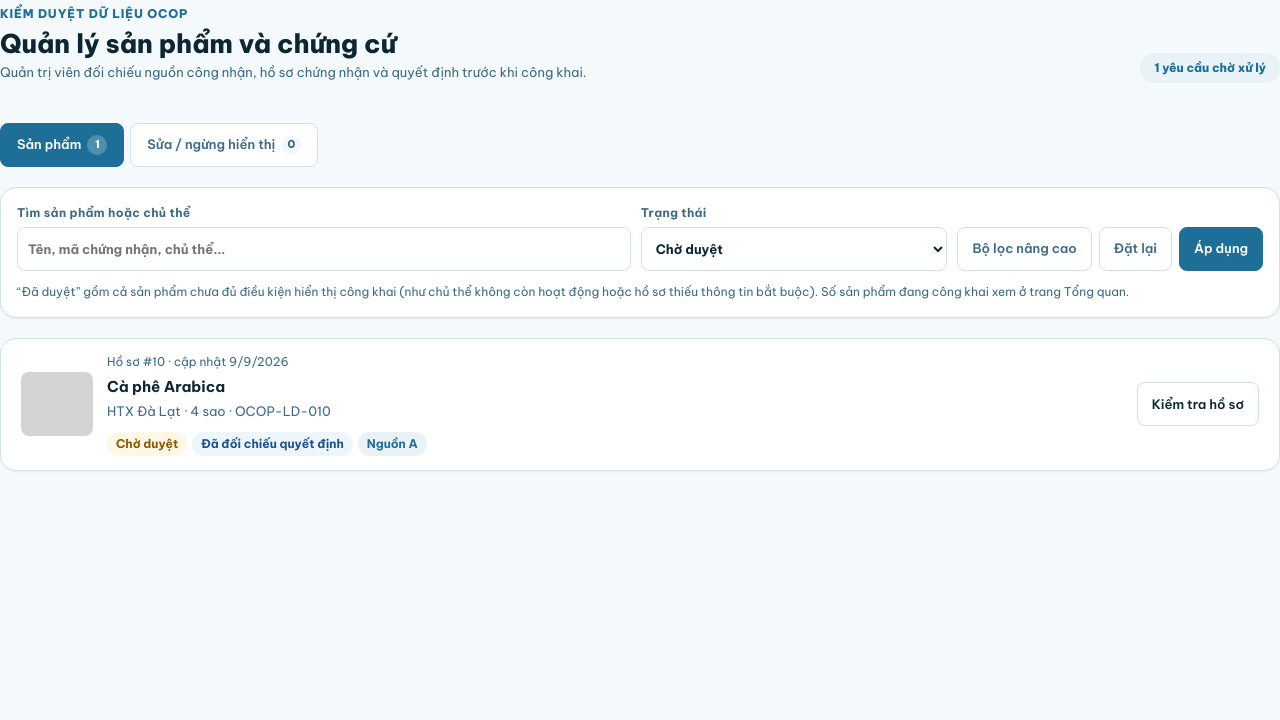
it: AdminProductsView › thieu phan hoi khi yeu cau bo sung: bao loi trong hop thoai, khong goi API
The width and height of the screenshot is (1280, 720).
Click the button "Kiểm tra hồ sơ".
click(1198, 404)  # box [1137,382,1259,426]
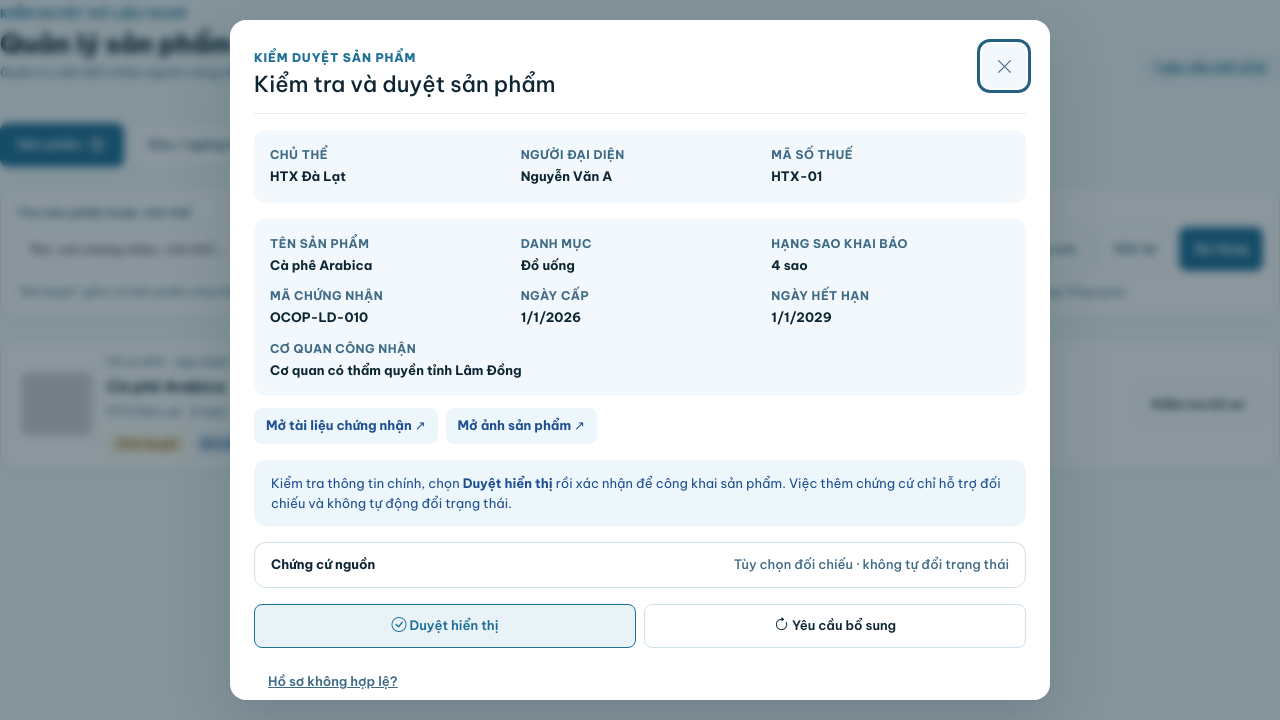
Click the button "Yêu cầu bổ sung".
click(835, 626)  # box [644,604,1026,648]
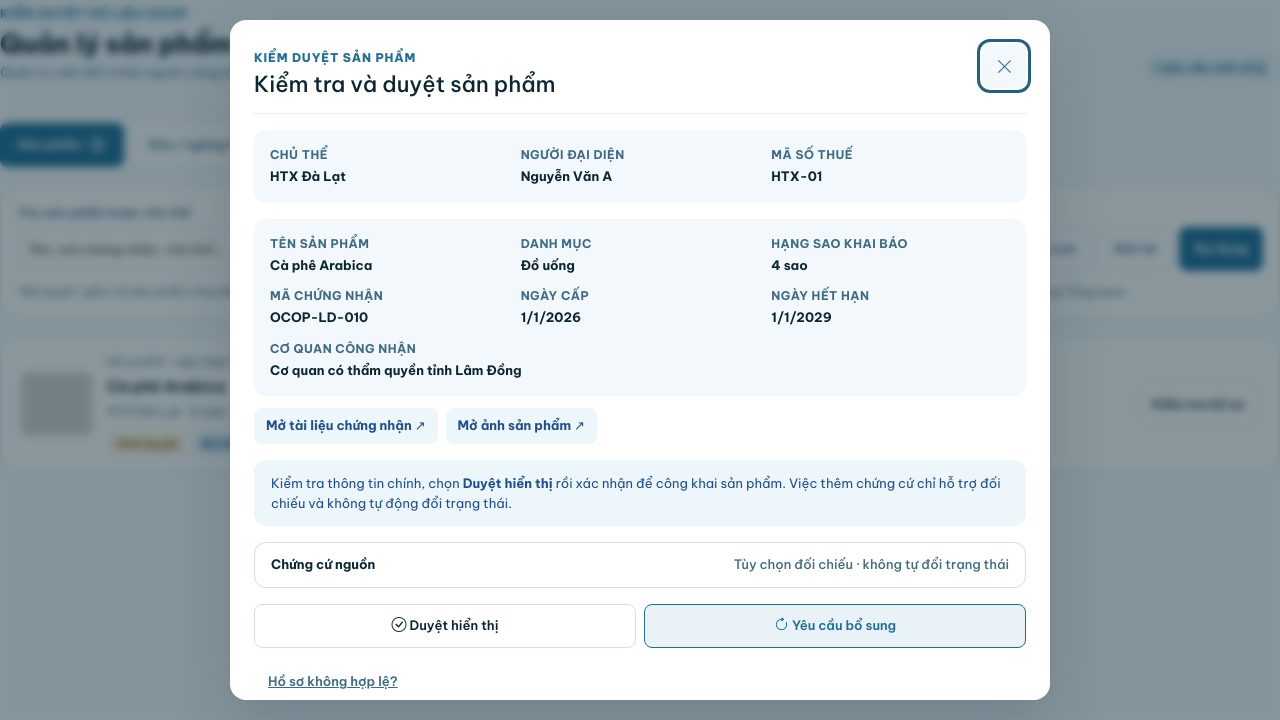
Submit the dialog with class "review-modal"
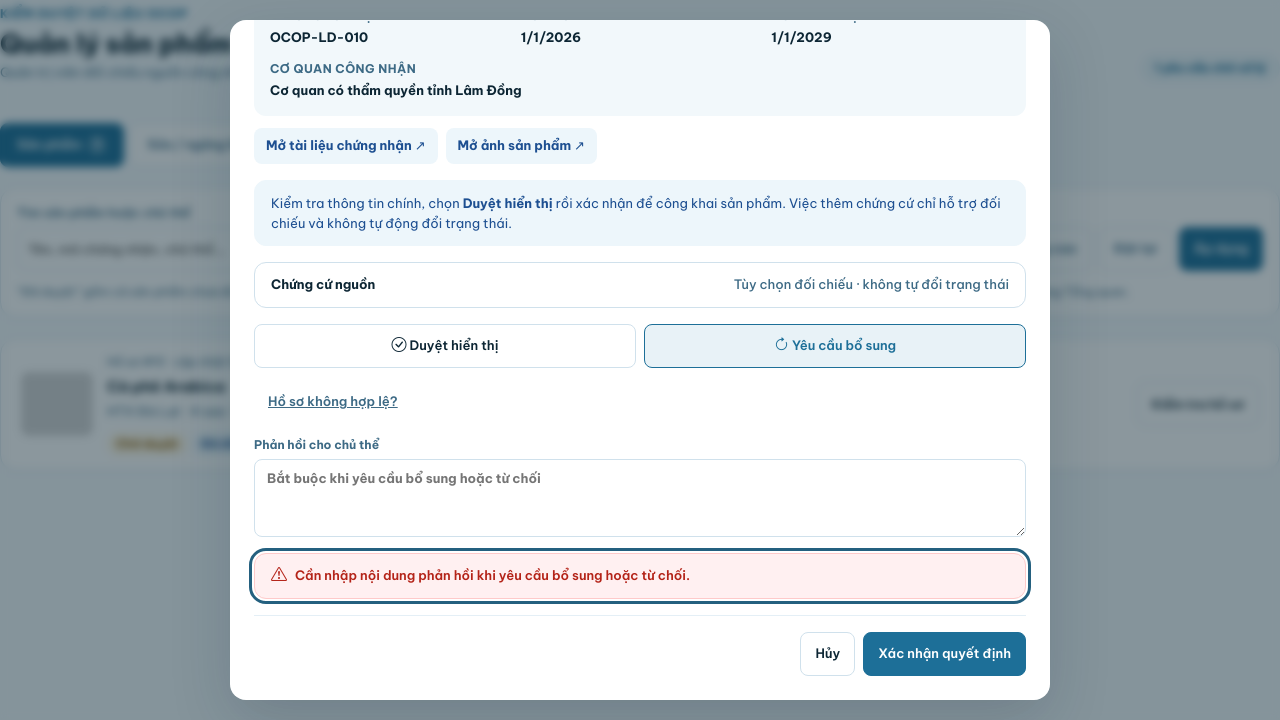
Expected: the message with class "modal-error" shows "Cần nhập nội dung phản hồi", [295,567,690,583]
